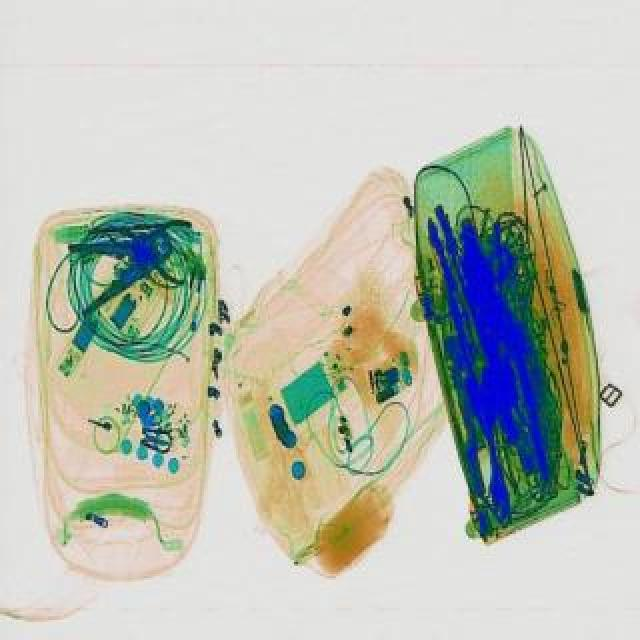wrench: (52, 212, 184, 316), (98, 202, 198, 286)
